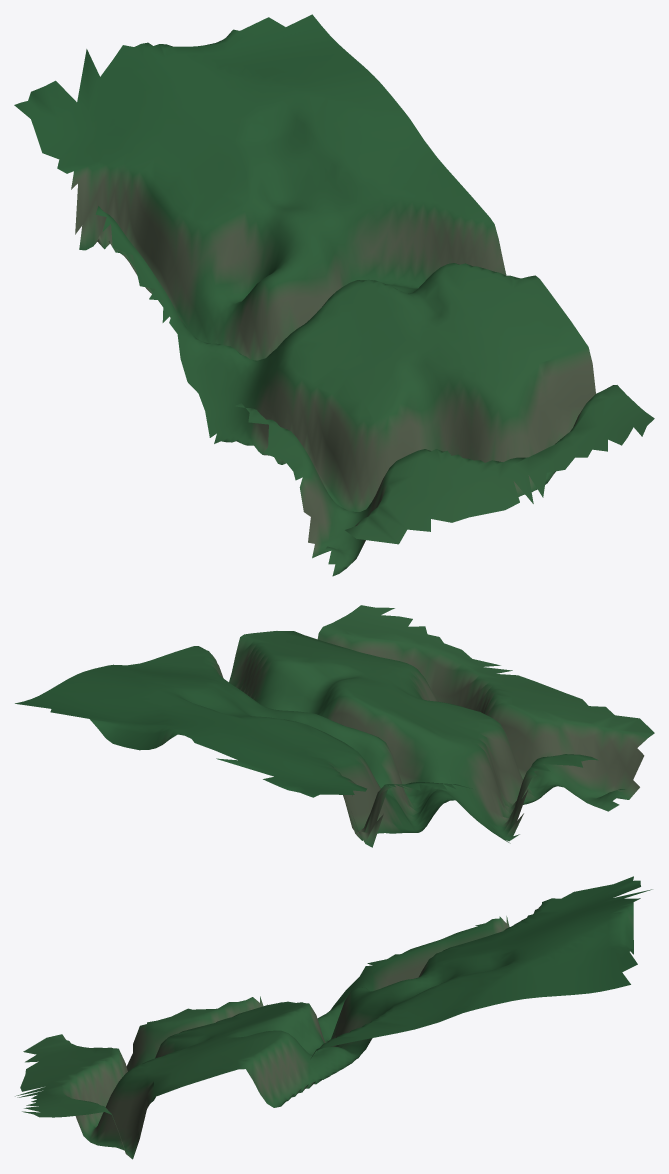
File: payo_land_xm5_y6.glb
3 renders of one model, top to bottom at view 1: azimuth 30°, elevation 25°; view 2: azimuth 150°, elevation 25°; view 3: azimuth 270°, elevation 25°, orthographic. The views are drawn at different scales.
Parts seen in each view (by area): view 1: payo_land_xm5_y6; view 2: payo_land_xm5_y6; view 3: payo_land_xm5_y6.
Boxes of the visible parts, <box> form: payo_land_xm5_y6: <box>14,14,654,576</box>; payo_land_xm5_y6: <box>15,605,654,847</box>; payo_land_xm5_y6: <box>15,876,652,1159</box>.
Size of the model in its own units: 130 by 109 by 273.
